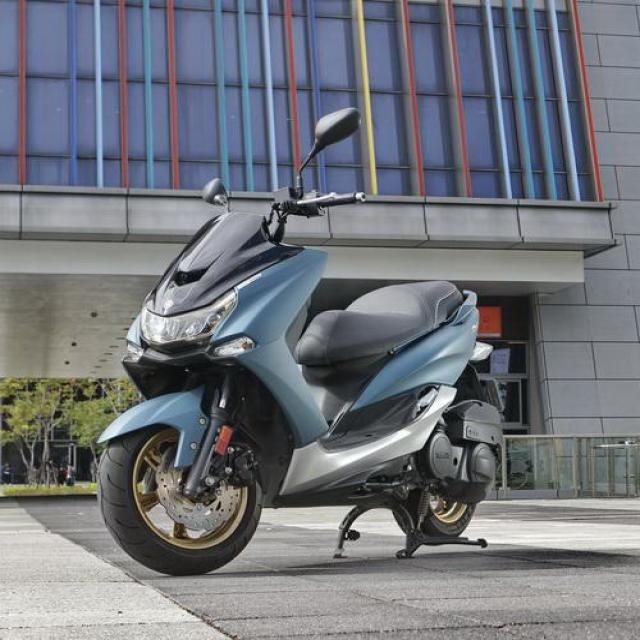Bike: (99, 108, 502, 574), (203, 179, 228, 206)
